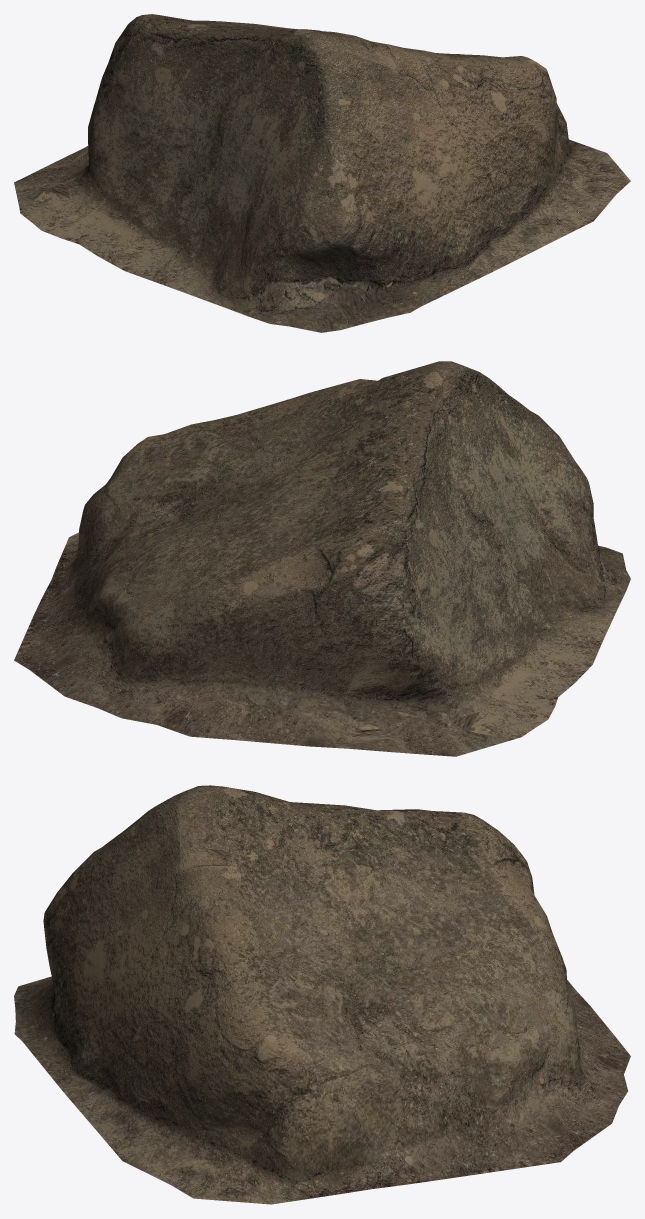
Rendered from boulder2.glb.
The picture shows the model from 3 angles, top to bottom: view 1: azimuth 30°, elevation 25°; view 2: azimuth 150°, elevation 25°; view 3: azimuth 270°, elevation 25°; orthographic projection. The views are drawn at different scales.
Visible parts, largest first — view 1: Rock Dry River PBR Scan Part 03; view 2: Rock Dry River PBR Scan Part 03; view 3: Rock Dry River PBR Scan Part 03.
Boxes of the visible parts, <box> form: Rock Dry River PBR Scan Part 03: <box>14,14,630,332</box>; Rock Dry River PBR Scan Part 03: <box>14,361,630,756</box>; Rock Dry River PBR Scan Part 03: <box>14,785,630,1204</box>.
Size of the model in its own units: 2.32 by 0.9482 by 2.19.
1 material, 1 textured.
